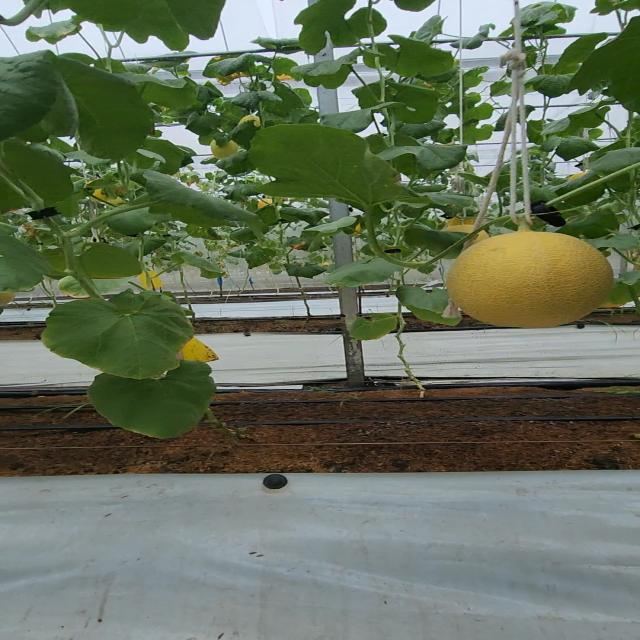Front-melon: (450, 230, 611, 327)
